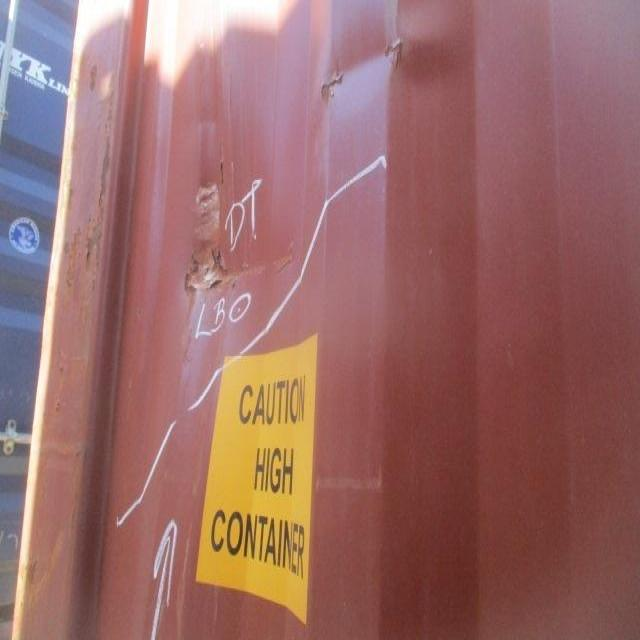dent: (108, 18, 483, 449)
